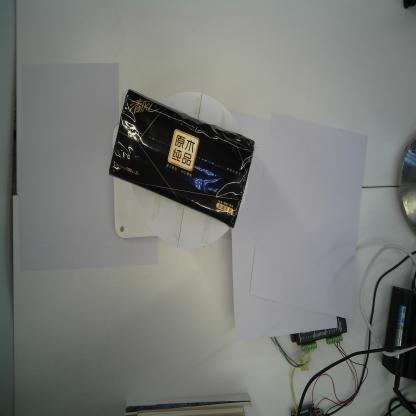Tissue: (107, 86, 258, 234)
